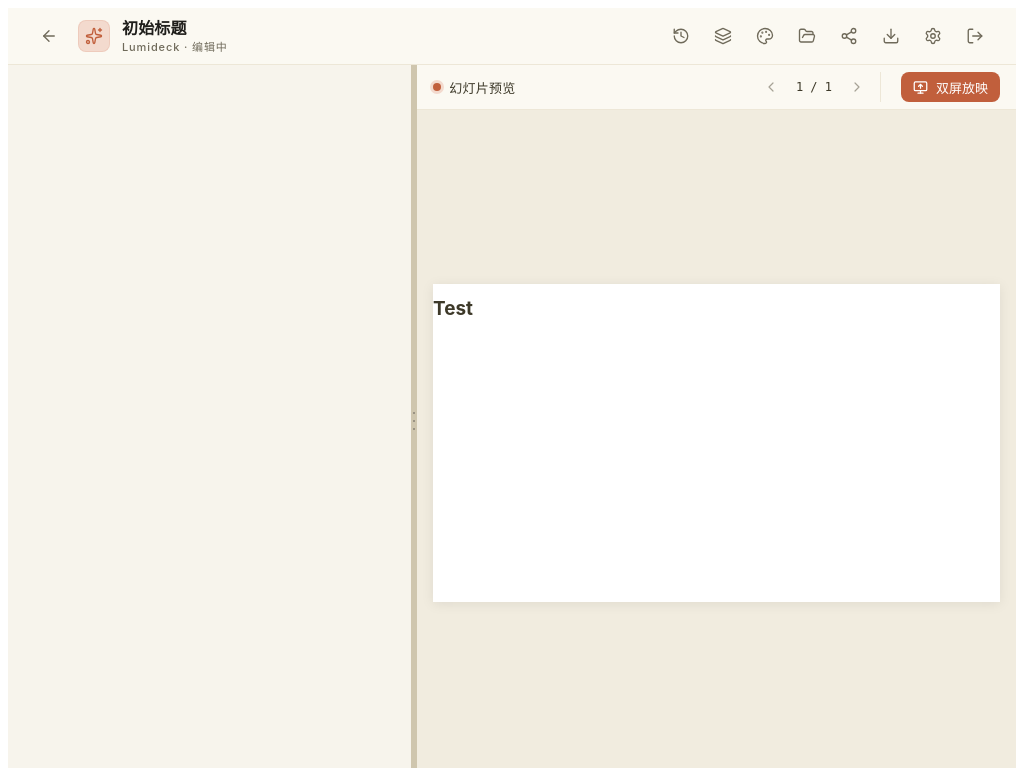
Test: DeckEditorCanvas · title inline 编辑 › 双击标题 → 进入 input，focus+selected
Double-click the text with class "deck-title" at (154, 28), box [122,20,187,37]
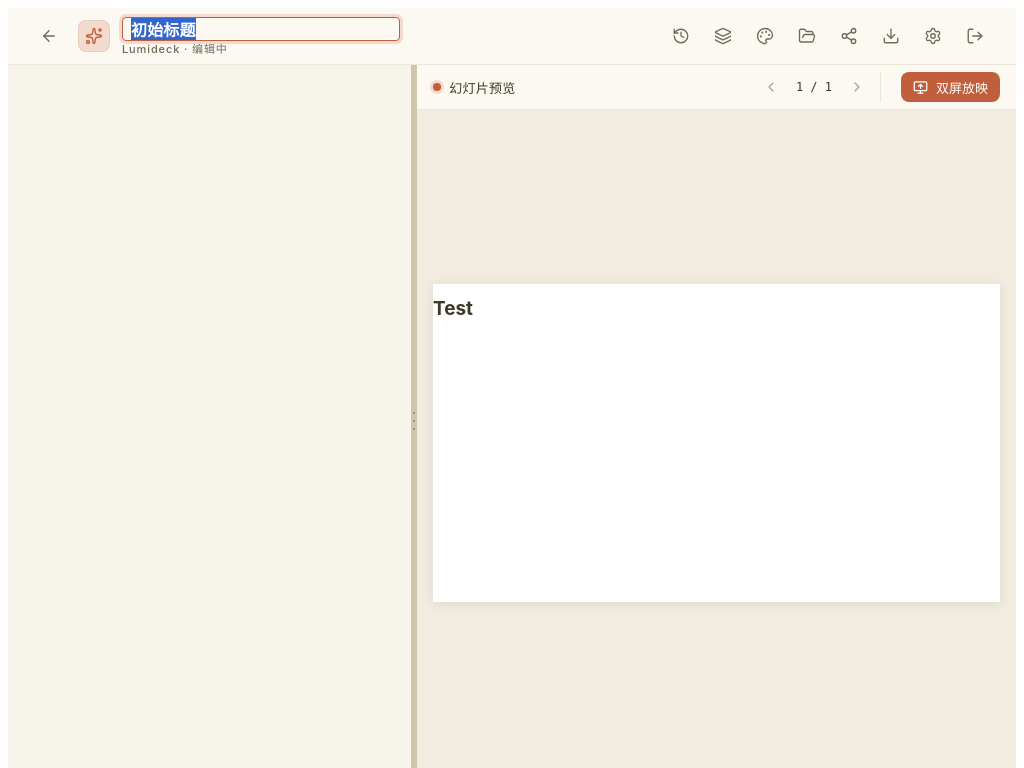
expect the field with class "deck-title-input" holds "初始标题": met, box [122,17,400,41]
